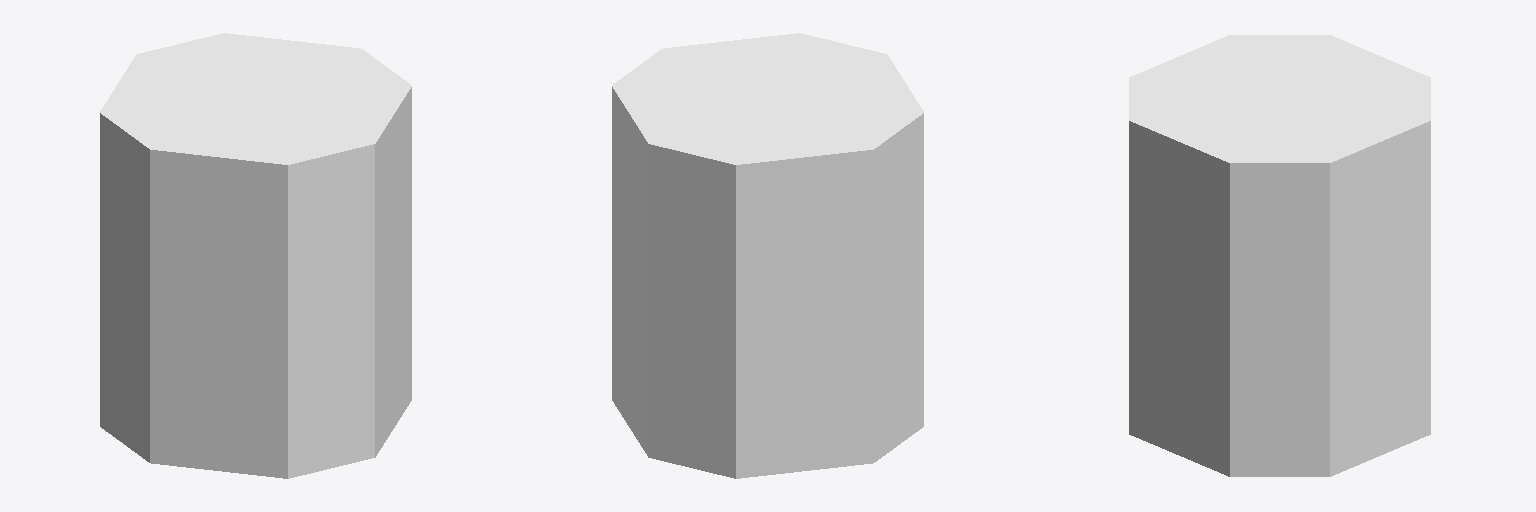
File: custom_containerexample.obj
3 views of the same model, side by side, from view 1: azimuth 30°, elevation 25°; view 2: azimuth 150°, elevation 25°; view 3: azimuth 270°, elevation 25° (orthographic).
Parts seen in each view (by area): view 1: body, lid; view 2: body, lid; view 3: body, lid.
Part boxes in pixels (bbox=[...]): body: bbox=[100, 87, 411, 478]; lid: bbox=[100, 33, 411, 164]; body: bbox=[612, 87, 923, 478]; lid: bbox=[612, 33, 923, 164]; body: bbox=[1129, 121, 1430, 476]; lid: bbox=[1129, 35, 1430, 162].
Bounding box in the file's own units: 0.875 × 1 × 0.875.